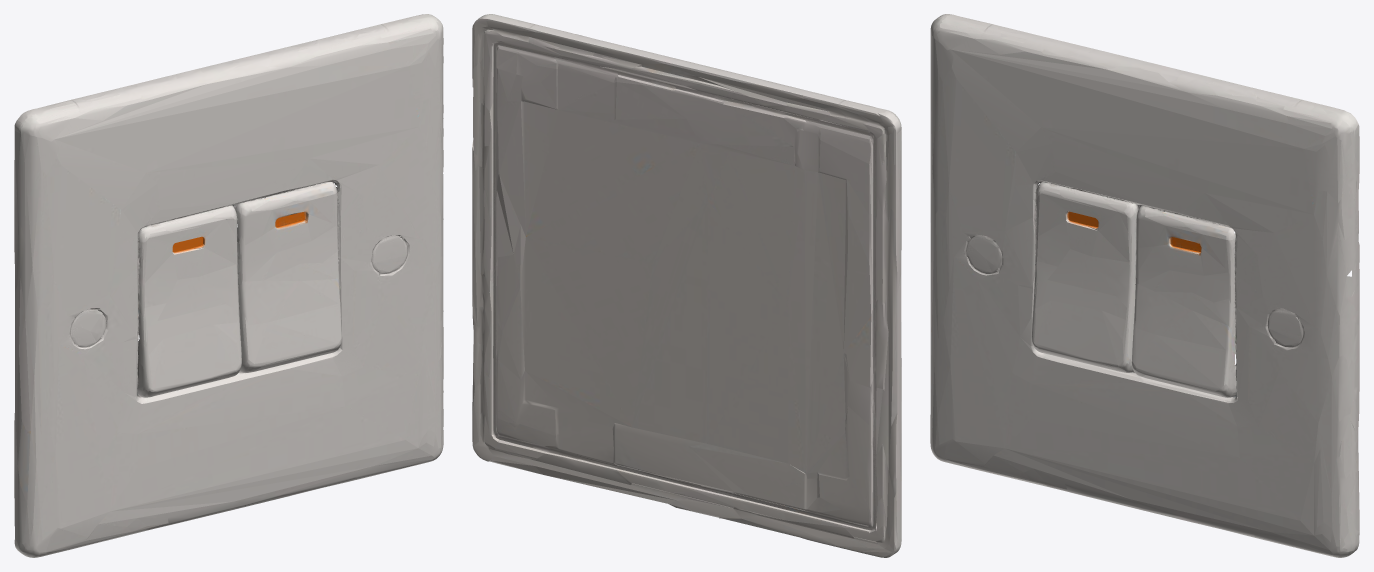
Rendered from e4switch.glb.
3 renders of one model, left to right at view 1: azimuth 30°, elevation 25°; view 2: azimuth 150°, elevation 25°; view 3: azimuth 330°, elevation 25°, orthographic.
Visible parts, largest first — view 1: output_unwrapped; view 2: output_unwrapped; view 3: output_unwrapped.
Boxes of the visible parts, box(x1,y1,x2,y2) form: output_unwrapped: box(14, 14, 443, 557); output_unwrapped: box(472, 14, 901, 557); output_unwrapped: box(930, 14, 1359, 557).
Size of the model in its own units: 0.086 by 0.086 by 0.00723.
1 material, 1 textured.
